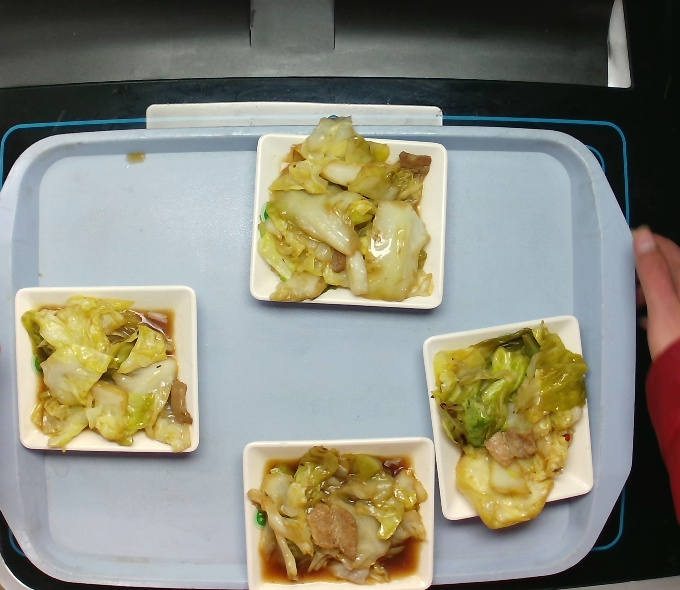wcq-JuanXinCaiChaoRou: (254, 115, 452, 318), (426, 321, 590, 534), (11, 290, 201, 451), (246, 435, 439, 590)
